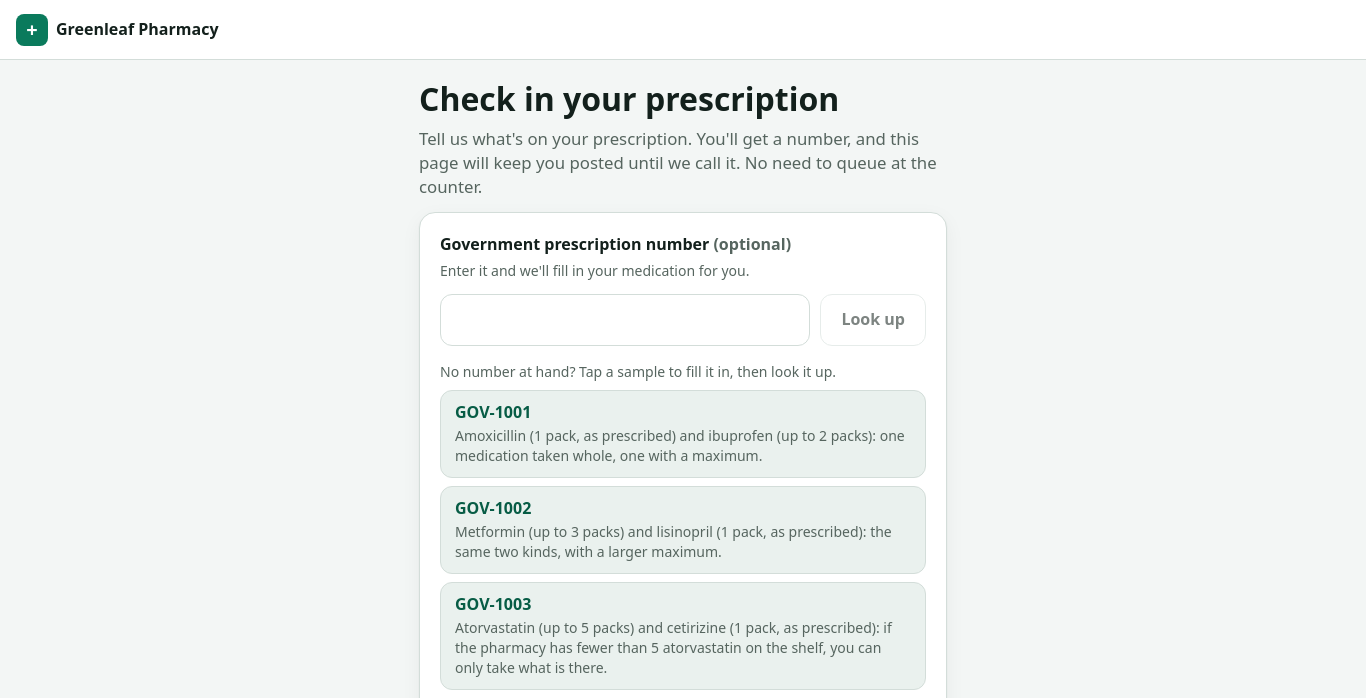
check-in with a government prescription › the sample prescriptions › lead to the prescription once looked up, and are gone while it is shown
Step 1. Click the button that starts with "GOV-1001" → (683, 434), box 440,390 -> 926,478
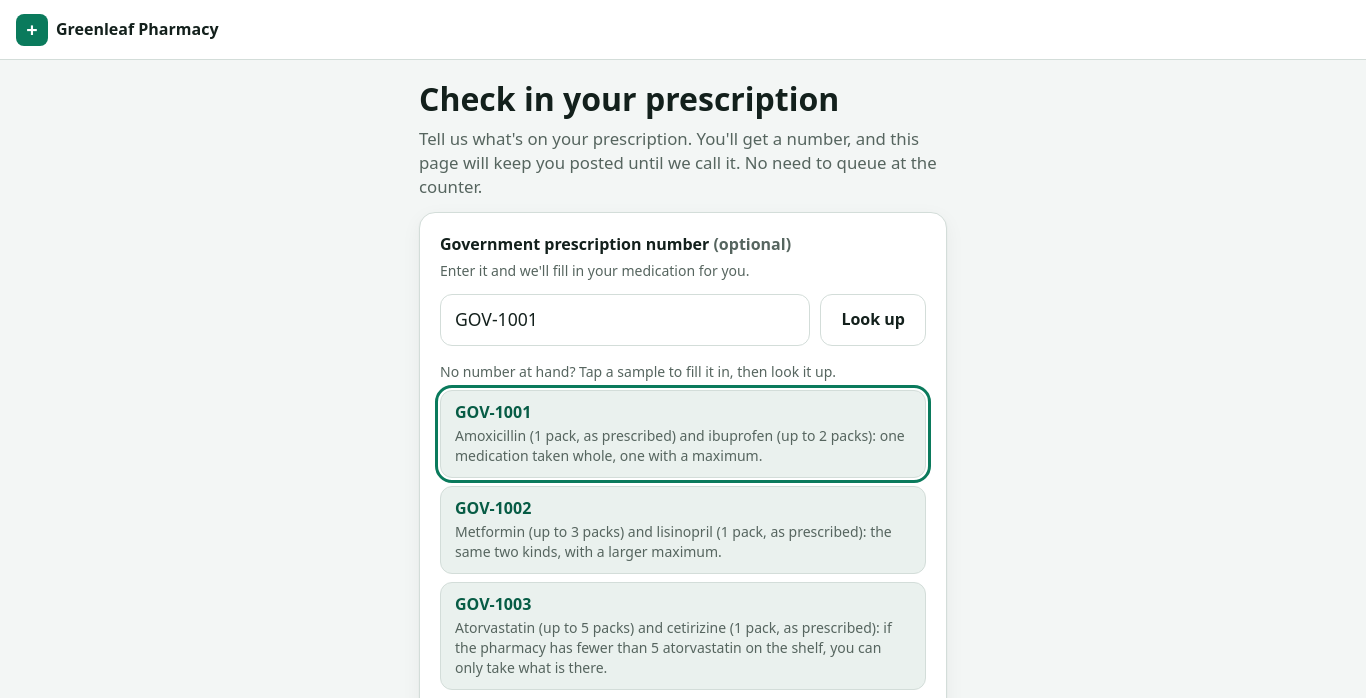
Step 2. Click the button "Look up" → (873, 320), box 820,294 -> 926,346
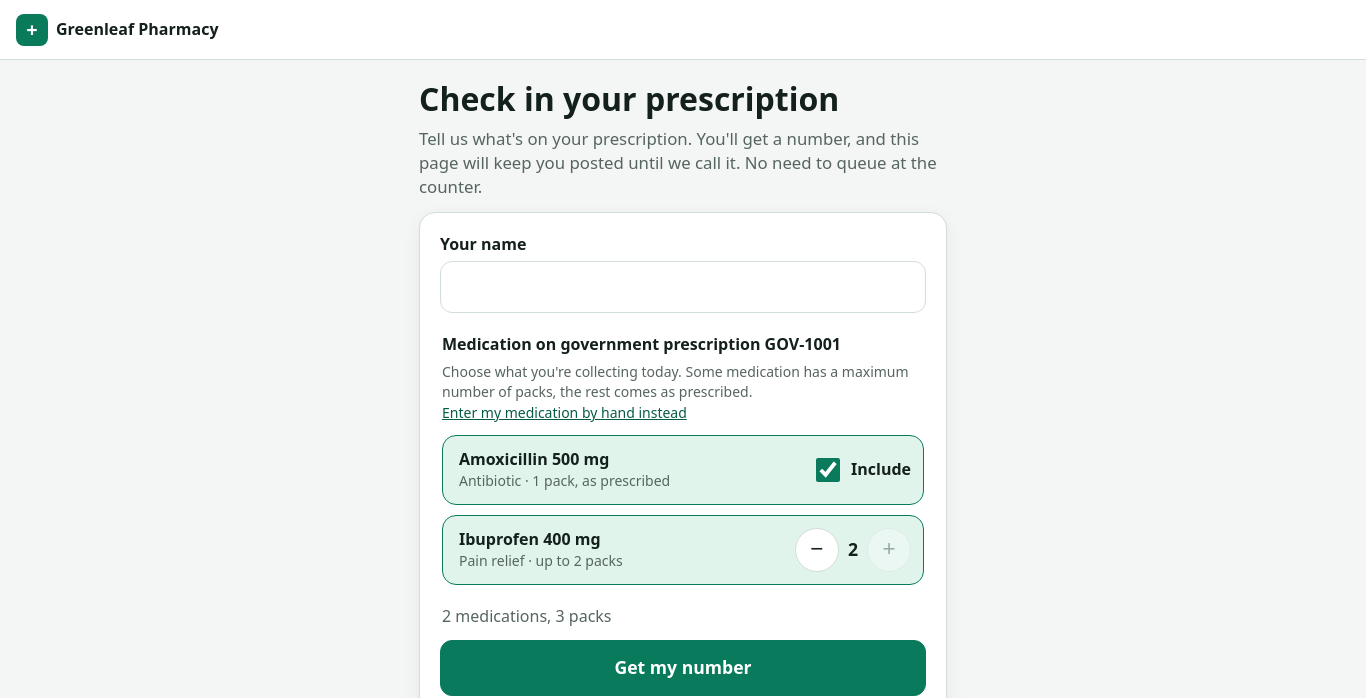
expect the text "Medication on government prescription GOV-1001" is shown: met, box 442,333 -> 841,357
expect the text "Tap a sample" is gone: met
Step 3. Click the button "Enter my medication by hand instead" → (564, 413), box 442,403 -> 687,423
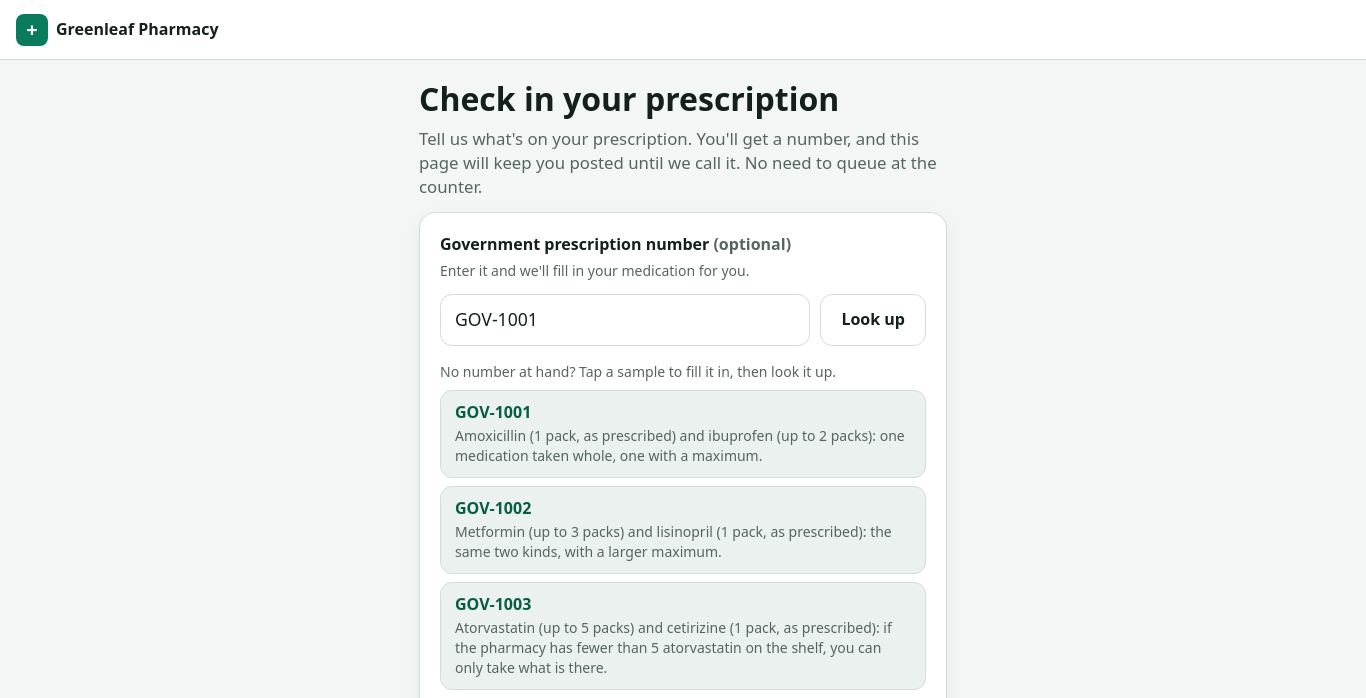
expect the button "GOV-1001" is shown: met, box 440,390 -> 926,478
